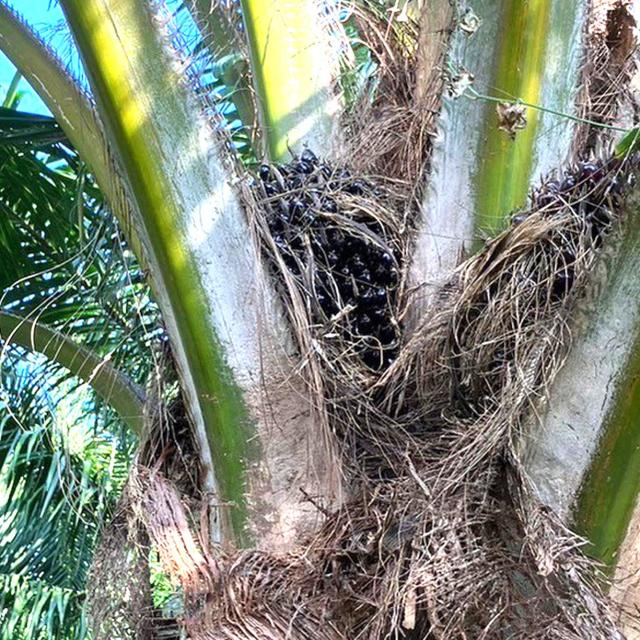unripe: (243, 133, 418, 410)
